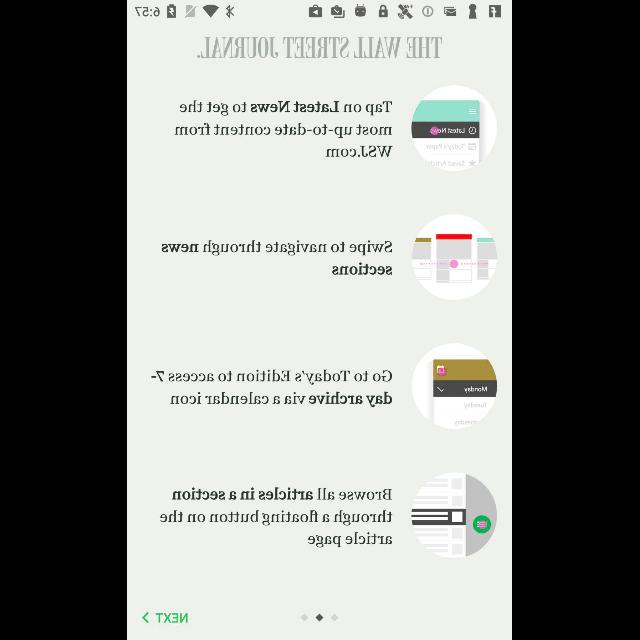icon: (142, 612, 150, 624)
image: (412, 473, 498, 559), (413, 214, 499, 300), (412, 85, 498, 171), (412, 344, 498, 428)
pageindicator: (300, 614, 340, 622)
text: (160, 487, 394, 548), (176, 100, 394, 158), (152, 368, 394, 408), (162, 240, 394, 276), (198, 37, 444, 59), (156, 612, 188, 624)
uppertaskbar: (128, 1, 512, 21)
